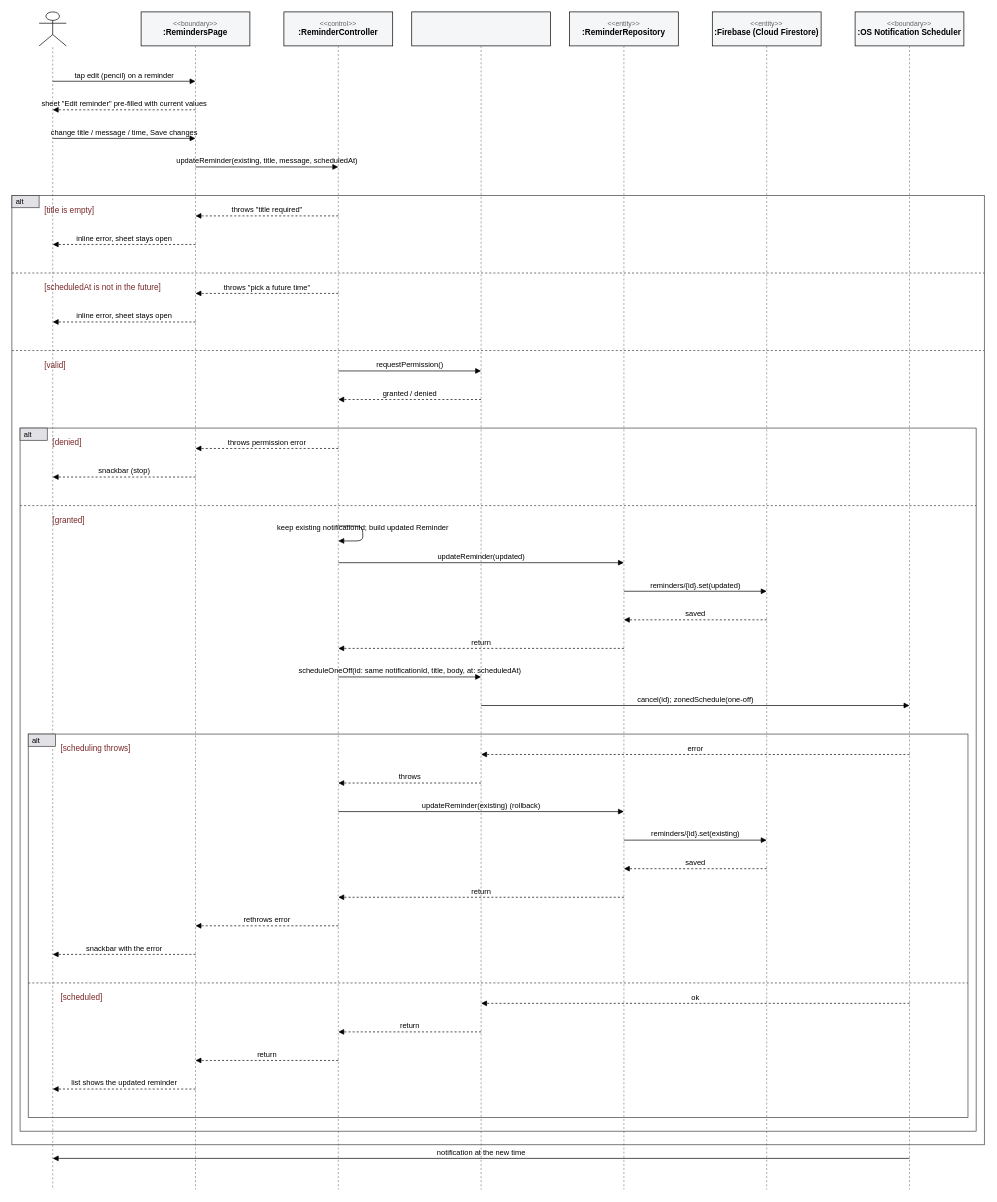
Image size: 997x1202. Some labels were removed from this diagram. The centre of each missing label's shape, as x and y in pixels:
"<<control>> :MealReminderNotificationService" belongs at (x=480, y=28).
"User" belongs at (x=52, y=28).
